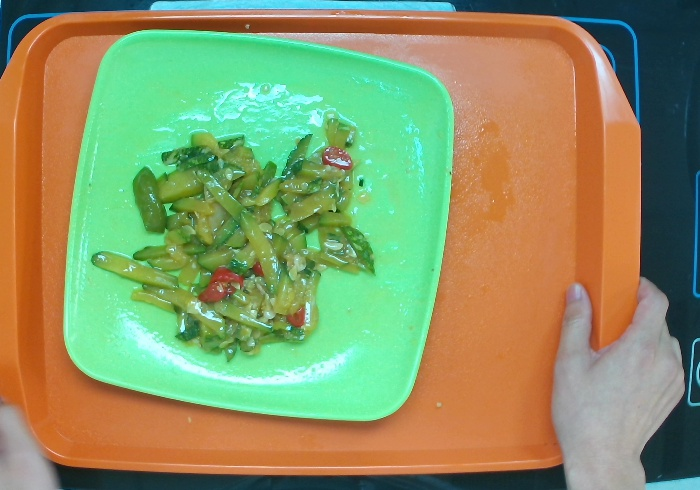ZNLD-Lv_Fang_Pan: (60, 27, 457, 423)
